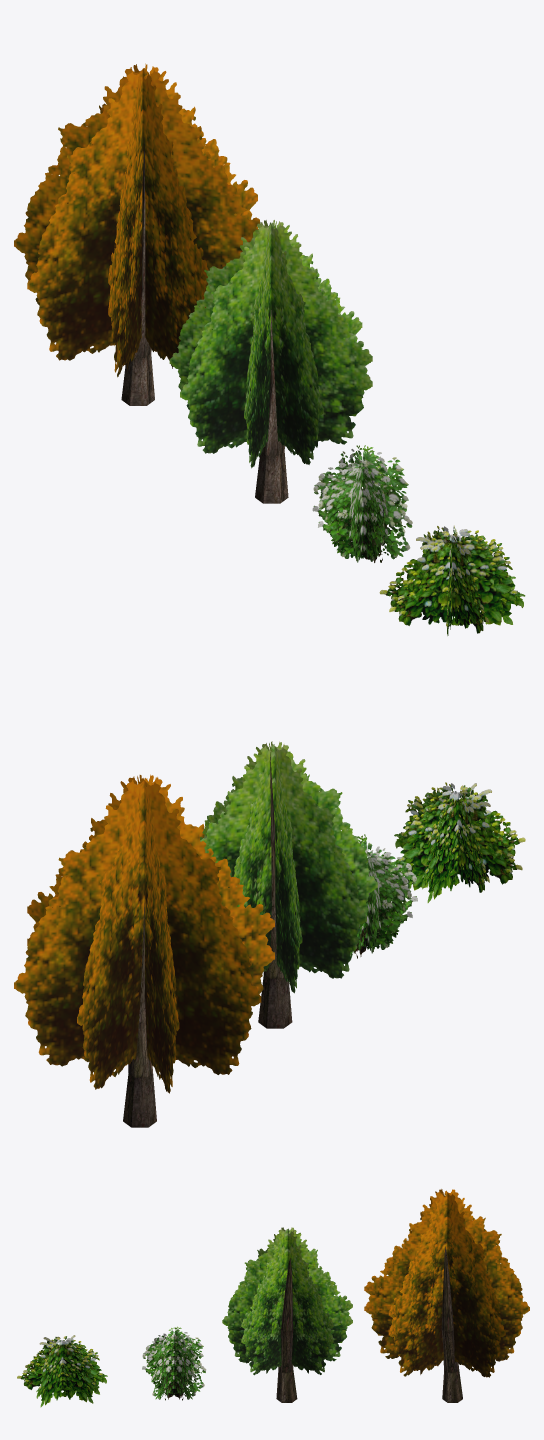
Rendered from PSXFoliagePack.fbx.
3 views of the same model, one above another, from view 1: azimuth 30°, elevation 25°; view 2: azimuth 150°, elevation 25°; view 3: azimuth 270°, elevation 25° (orthographic). The views are drawn at different scales.
Parts seen in each view (by area): view 1: Tree2, Tree, Bush1, Bush2; view 2: Tree2, Tree, Bush1, Bush2; view 3: Tree2, Tree, Bush1, Bush2.
Boxes of the visible parts, left/top/right/bottom form: Tree2: left=14, top=63, right=259, bottom=405; Tree: left=169, top=220, right=372, bottom=503; Bush1: left=379, top=525, right=525, bottom=635; Bush2: left=312, top=445, right=412, bottom=562; Tree2: left=14, top=774, right=274, bottom=1127; Tree: left=200, top=741, right=377, bottom=1028; Bush1: left=393, top=782, right=525, bottom=902; Bush2: left=350, top=834, right=417, bottom=958; Tree2: left=364, top=1189, right=529, bottom=1402; Tree: left=222, top=1227, right=352, bottom=1402; Bush1: left=17, top=1335, right=107, bottom=1407; Bush2: left=142, top=1326, right=206, bottom=1400.
Bounding box in the file's own units: 1.65 × 2.35 × 5.14.
